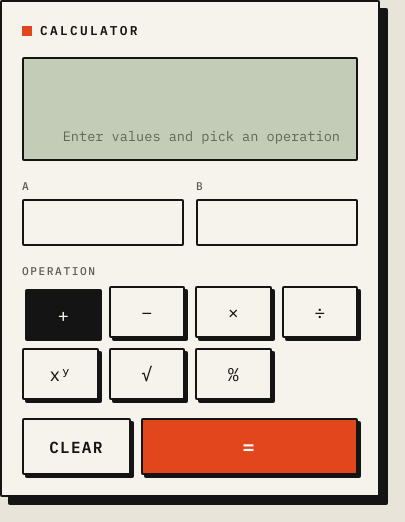
Test case: Calculator › describes Percentage (A% of B) results
Click the button named "Percentage (A% of B)".
click(233, 374)  # box [195,348,272,400]
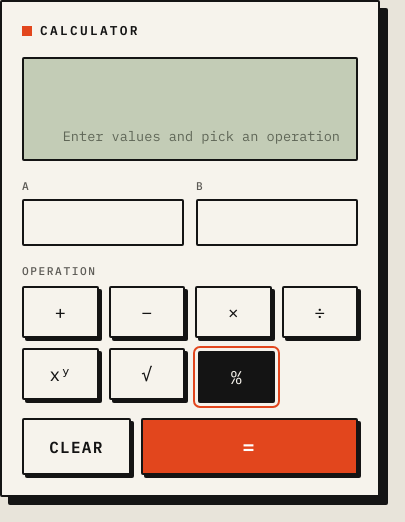
Type "15" into the field labelled "A".
click(103, 222); type("15")  # box [22,199,184,246]
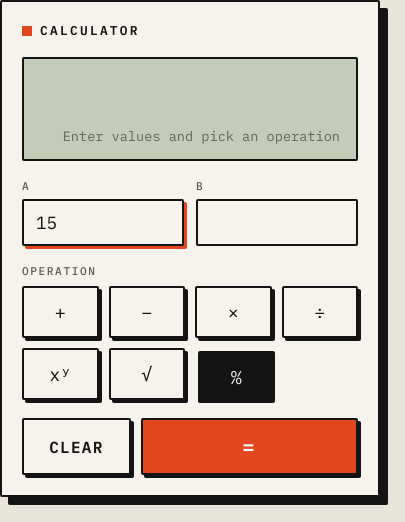
Type "200" into the field labelled "B".
click(277, 222); type("200")  # box [196,199,358,246]
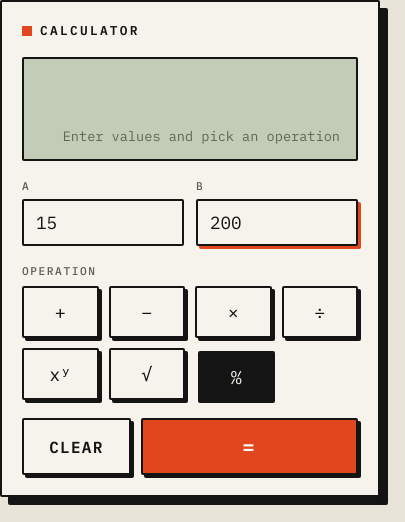
Click the button "=".
click(249, 446)  # box [141,418,358,475]
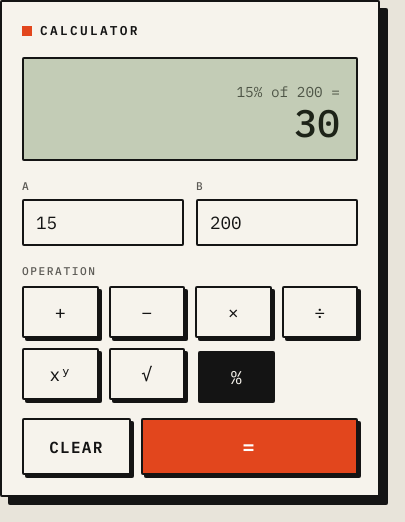
Expected: the text "15% of 200 =" is shown, [236,82,340,101]
